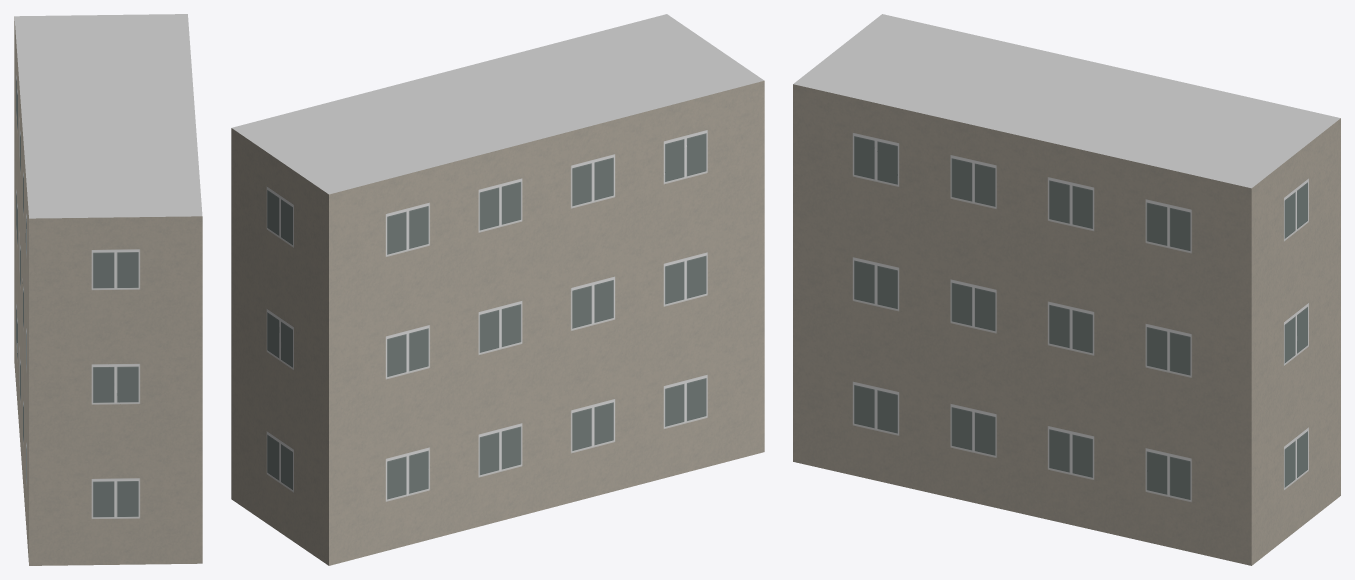
The model's file is building-1-0-17.dae.
3 views of the same model, side by side, from view 1: azimuth 30°, elevation 25°; view 2: azimuth 150°, elevation 25°; view 3: azimuth 270°, elevation 25° (orthographic). The views are drawn at different scales.
Visible parts, largest first — view 1: geopipeinode4exzD8I4 (×3); view 2: geopipeinode4exzD8I4 (×3); view 3: geopipeinode4exzD8I4 (×3).
Part boxes in pixels (x1=…): geopipeinode4exzD8I4 (×3): x1=14, y1=14, x2=202, y2=565; geopipeinode4exzD8I4 (×3): x1=231, y1=14, x2=764, y2=565; geopipeinode4exzD8I4 (×3): x1=793, y1=14, x2=1340, y2=565.
Size of the model in its own units: 12.68 by 16.83 by 12.8.
